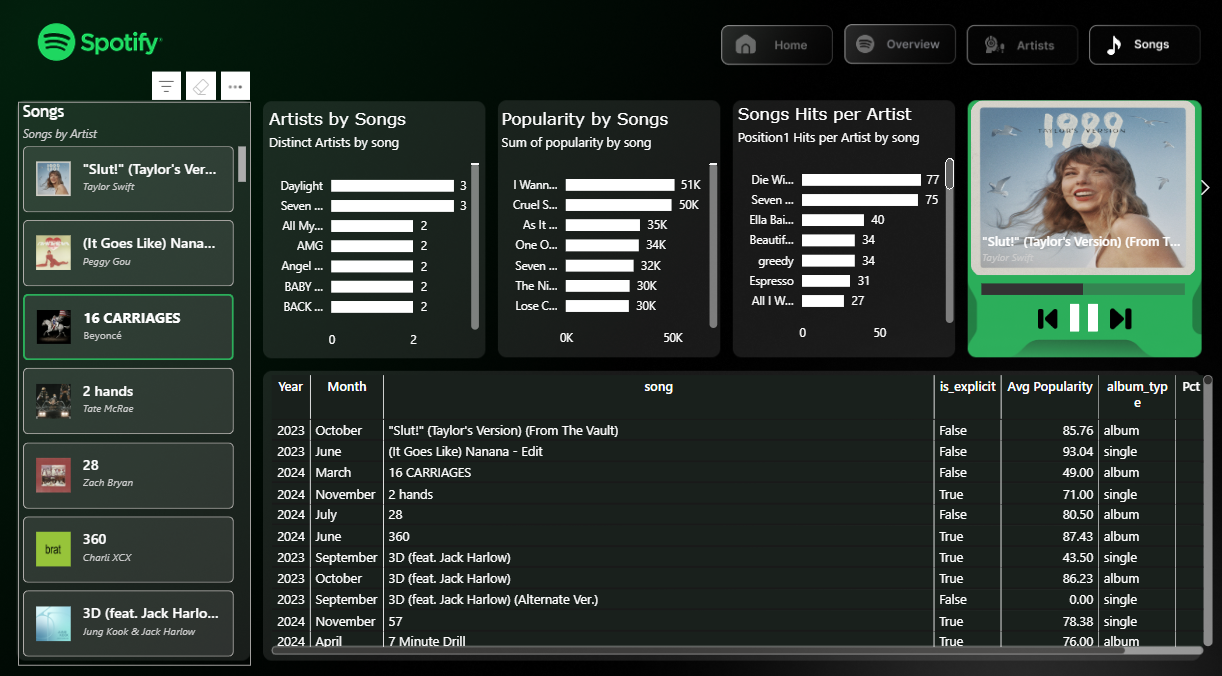

This screenshot's page, from the dashboard's own definition file:
{"tool":"powerbi","page":{"name":"Songs","canvas":[1280,720],"ordinal":3},"visuals":[{"type":"actionButton","box":[1144,32.9,105.7,40],"z":0},{"type":"actionButton","box":[1018.3,32.9,105.7,40],"z":1000},{"type":"actionButton","box":[888.3,32.9,105.7,40],"z":2000},{"type":"actionButton","box":[764,32.9,105.7,40],"z":3000},{"type":"hundredPercentStackedBarChart","fields":{"Y":["Avg(Top-50-World.popularity)","_Measures.Avg Popularity"]},"box":[1021.4,275.7,221.4,60],"z":4000},{"type":"image","box":[1154.3,318.6,34.3,40],"z":5000},{"type":"image","box":[1075.7,321.4,41.4,32.9],"z":6000},{"type":"image","box":[1110,318.6,45.7,38.6],"z":7000},{"type":"advancedSlicerVisual","title":"Songs","fields":{"Values":["Top-50-World.song"]},"box":[990,105.7,285.7,194.3],"z":8000},{"type":"shape","box":[1008.6,91.4,250,300],"z":9000},{"type":"clusteredBarChart","title":"Artists by Songs","fields":{"Category":["Top-50-World.song"],"Y":["_Measures.Distinct Artists"]},"box":[282.2,119,228.2,258.9],"z":10000},{"type":"clusteredBarChart","title":"Popularity by Songs","fields":{"Category":["Top-50-World.song"],"Y":["Sum(Top-50-World.popularity)"]},"box":[522.9,120,234.3,257.1],"z":11000},{"type":"clusteredBarChart","title":"Songs Hits per Artist","fields":{"Category":["Top-50-World.song"],"Y":["_Measures.Position1 Hits per Artist"]},"box":[768.6,114.3,234.3,257.1],"z":12000},{"type":"advancedSlicerVisual","title":"Songs","fields":{"Values":["Top-50-World.song"]},"box":[25.7,112.9,242.9,585.7],"z":13000},{"type":"tableEx","fields":{"Values":["Top-50-World.release_date.Variation.Date Hierarchy.Year","Top-50-World.release_date.Variation.Date Hierarchy.Month","Top-50-World.song","Top-50-World.is_explicit","_Measures.Avg Popularity","Top-50-World.album_type","_Measures.Pct Explicit Songs"]},"box":[282.5,392.5,988.8,300],"z":14000}]}

Visuals, with their boxes in screenshot pixels (x1, y1, x2, y2), scaled from the page's 1280x720 canvas onto the 1222x676 screenshot:
actionButton: x1=1092 y1=31 x2=1193 y2=68
actionButton: x1=972 y1=31 x2=1073 y2=68
actionButton: x1=848 y1=31 x2=949 y2=68
actionButton: x1=729 y1=31 x2=830 y2=68
hundredPercentStackedBarChart - Avg(Top-50-World.popularity) x _Measures.Avg Popularity: x1=975 y1=259 x2=1186 y2=315
image: x1=1102 y1=299 x2=1135 y2=337
image: x1=1027 y1=302 x2=1066 y2=333
image: x1=1060 y1=299 x2=1103 y2=335
"Songs" advancedSlicerVisual: x1=945 y1=99 x2=1218 y2=282
shape: x1=963 y1=86 x2=1202 y2=367
"Artists by Songs" clusteredBarChart: x1=269 y1=112 x2=487 y2=355
"Popularity by Songs" clusteredBarChart: x1=499 y1=113 x2=723 y2=354
"Songs Hits per Artist" clusteredBarChart: x1=734 y1=107 x2=957 y2=349
"Songs" advancedSlicerVisual: x1=25 y1=106 x2=256 y2=656
tableEx - Top-50-World.release_date.Variation.Date Hierarchy.Year x Top-50-World.release_date.Variation.Date Hierarchy.Month: x1=270 y1=369 x2=1214 y2=650
